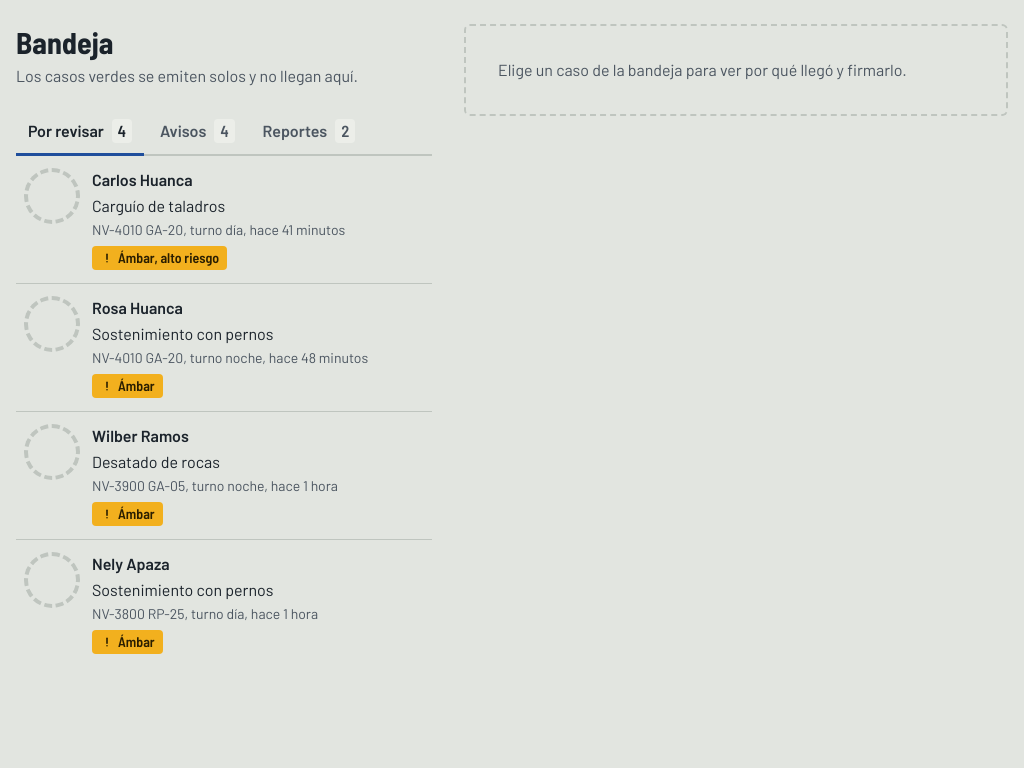
Test case: pestaña Reportes del supervisor › Reportes lista las tareas cerradas con su resultado
Step 1. Click the tab "Reportes 2" → click(309, 132), box [250, 108, 367, 156]
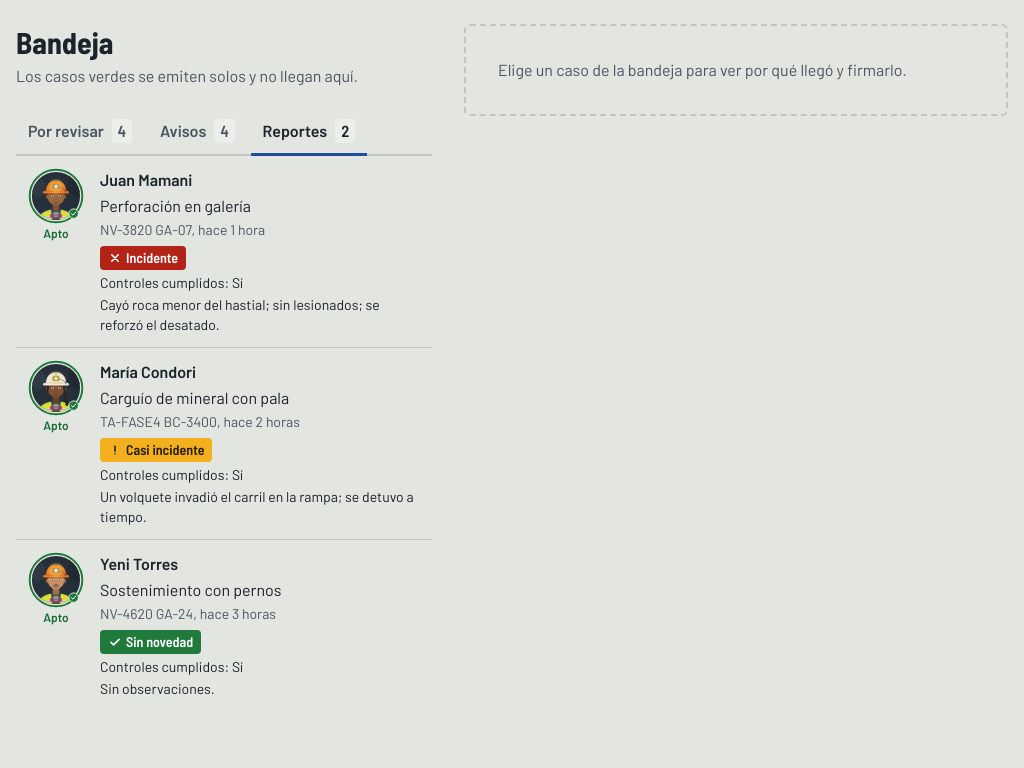
Expected: the text "María Condori" is shown, [100, 362, 196, 381]
Expected: the text "Yeni Torres" is shown, [100, 554, 178, 573]
Expected: the text "Casi incidente" is shown, [100, 438, 212, 462]
